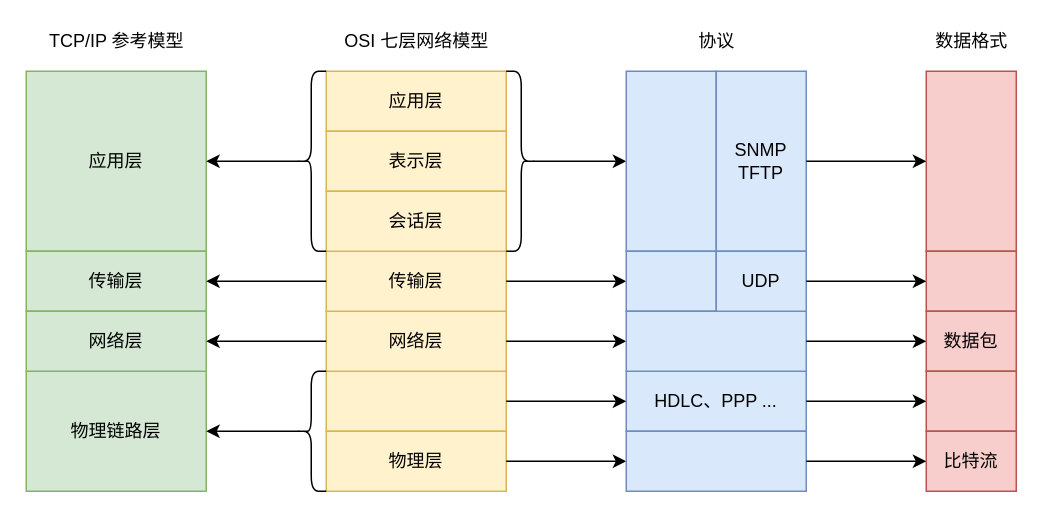
Some shapes in this 1043 by 518 pixel diagram are drawn without their labels. The centre of each missing label's shape, as x and y in pixels:
HTTP FTP: point 670,160
IEEE 802.1A ...: point 715,460
IP、ICMP: point 715,340
TCP: point 670,280
报文: point 970,160
数据帧: point 970,400
数据段: point 970,280
数据链路层: point 415,400
